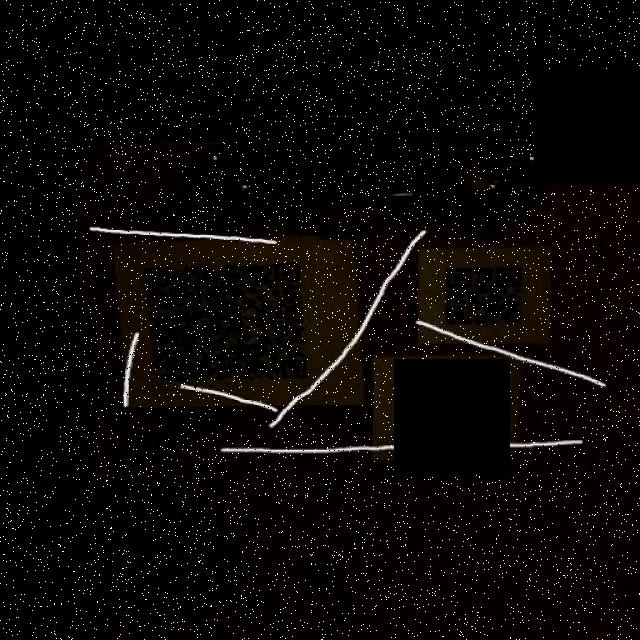QR_CODE: (128, 244, 322, 388), (385, 363, 500, 458), (434, 255, 536, 338)
